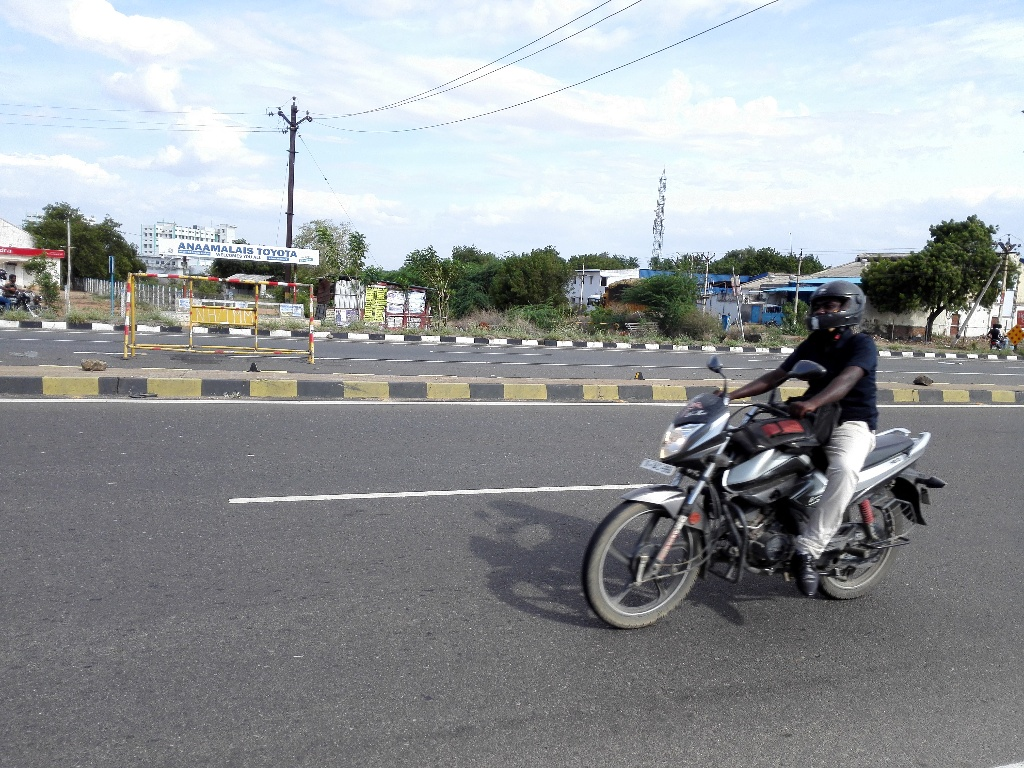biker: (558, 230, 980, 650)
helmet: (796, 263, 878, 351)
